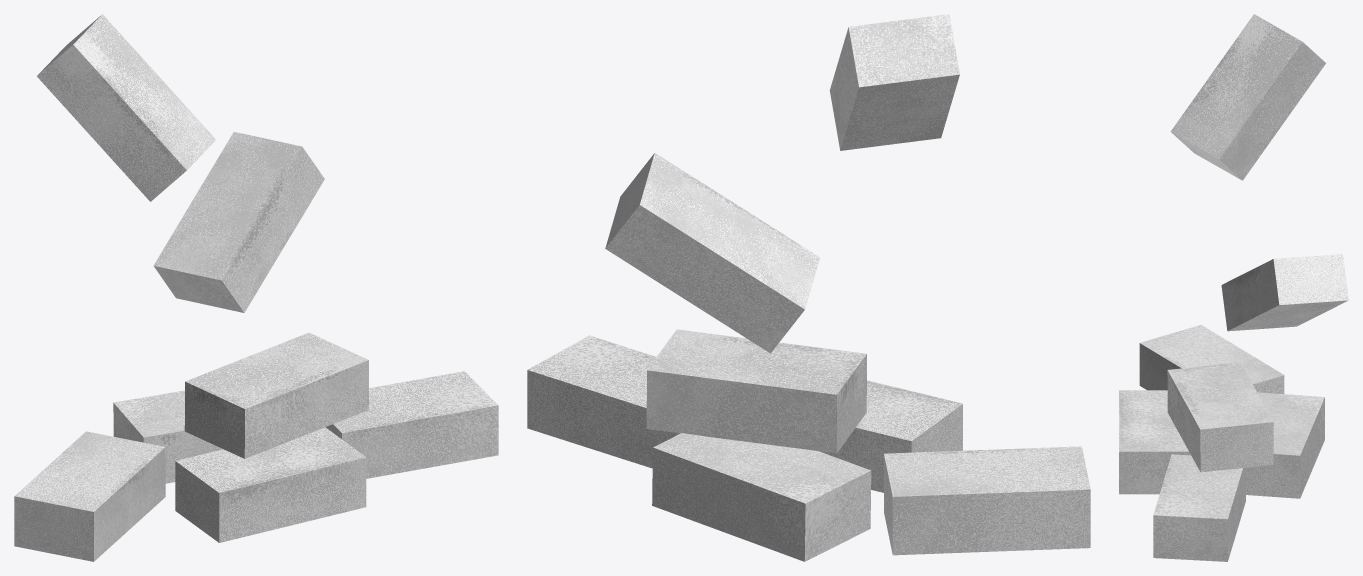
Rendered from 04-sucre-model.glb.
3 views of the same model, side by side, from view 1: azimuth 30°, elevation 25°; view 2: azimuth 150°, elevation 25°; view 3: azimuth 270°, elevation 25° (orthographic). The views are drawn at different scales.
Parts seen in each view (by area): view 1: 04-sucre-model; view 2: 04-sucre-model; view 3: 04-sucre-model.
Boxes of the visible parts, box(x1,y1,x2,y2) form: 04-sucre-model: box(14, 14, 498, 561); 04-sucre-model: box(527, 14, 1090, 561); 04-sucre-model: box(1119, 14, 1348, 561).
Size of the model in its own units: 2.8 by 2.63 by 1.4.
Materials: 1 (1 with a texture image).
